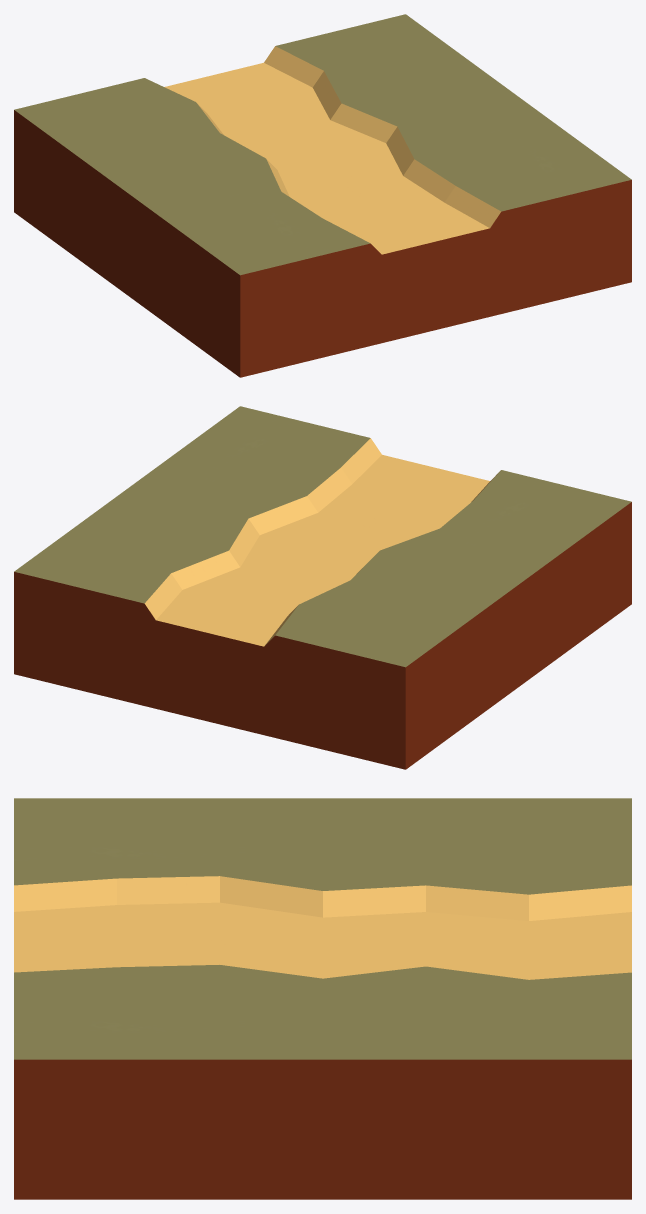
File: path.fbx
The picture shows the model from 3 angles, top to bottom: view 1: azimuth 30°, elevation 25°; view 2: azimuth 150°, elevation 25°; view 3: azimuth 270°, elevation 25°; orthographic projection. The views are drawn at different scales.
Visible parts, largest first — view 1: path; view 2: path; view 3: path.
Boxes of the visible parts, bbox=[...] form: path: bbox=[14, 14, 631, 377]; path: bbox=[14, 406, 631, 769]; path: bbox=[14, 798, 631, 1199].
Bounding box in the file's own units: 200 × 50 × 200.
1 material, 1 textured.
